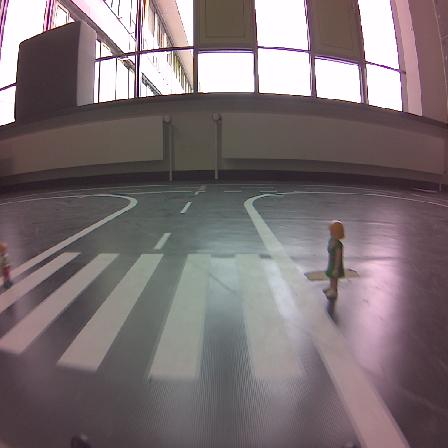CHILD: (0, 243, 12, 288)
PERSON: (324, 220, 344, 299)
